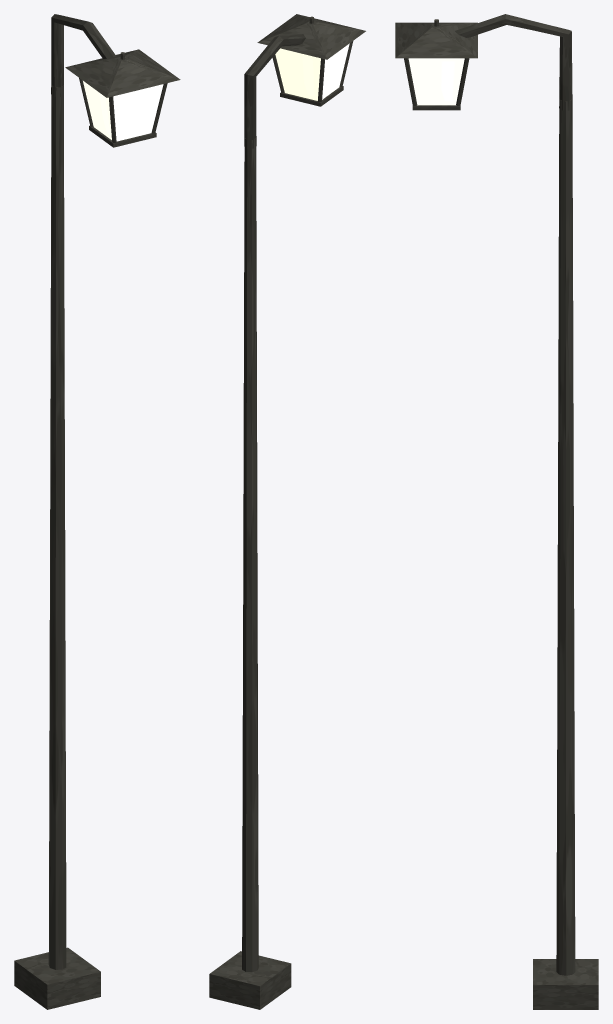
Rendered from streetlight.glb.
3 views of the same model, side by side, from view 1: azimuth 30°, elevation 25°; view 2: azimuth 150°, elevation 25°; view 3: azimuth 270°, elevation 25° (orthographic). The views are drawn at different scales.
Visible parts, largest first — view 1: outdoor_streetlight; view 2: outdoor_streetlight; view 3: outdoor_streetlight.
Part boxes in pixels (x1,y1,x2,y2): outdoor_streetlight: [14, 14, 180, 1009]; outdoor_streetlight: [209, 14, 365, 1009]; outdoor_streetlight: [395, 14, 598, 1009].
Bounding box in the file's own units: 0.5 × 6.4 × 1.2.
2 materials, 2 textured.
